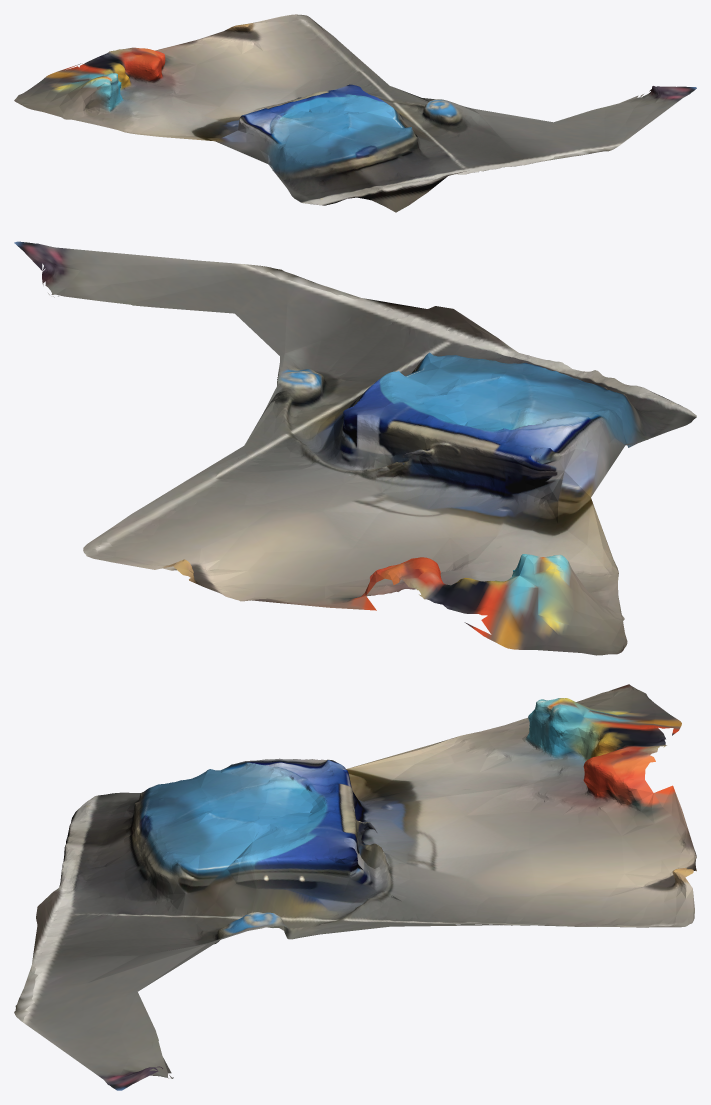
Rendered from Fake Computer.glb.
The picture shows the model from 3 angles, top to bottom: view 1: azimuth 30°, elevation 25°; view 2: azimuth 150°, elevation 25°; view 3: azimuth 270°, elevation 25°; orthographic projection. The views are drawn at different scales.
Parts seen in each view (by area): view 1: mesh; view 2: mesh; view 3: mesh.
Boxes of the visible parts, box(x1,y1,x2,y2) form: mesh: box(14, 14, 696, 212); mesh: box(14, 241, 696, 655); mesh: box(14, 684, 696, 1090).
Size of the model in its own units: 1.1 by 0.1137 by 0.7791.
Materials: 1 (1 with a texture image).
